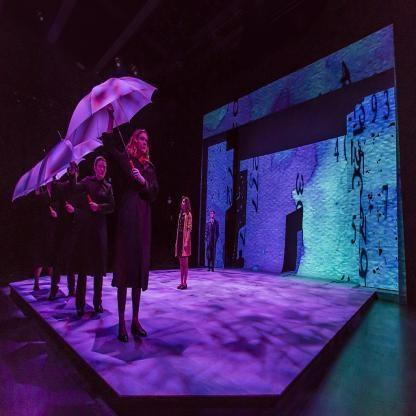Umbrella: (67, 67, 158, 174), (35, 132, 104, 194), (11, 172, 33, 203)
